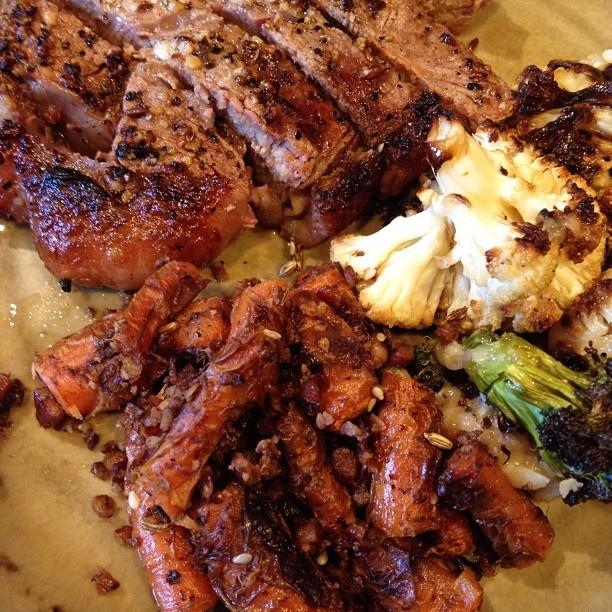broccoli: (439, 331, 612, 505)
cauliflower: (426, 110, 606, 332), (413, 190, 558, 332), (330, 205, 455, 329), (547, 274, 612, 358)
